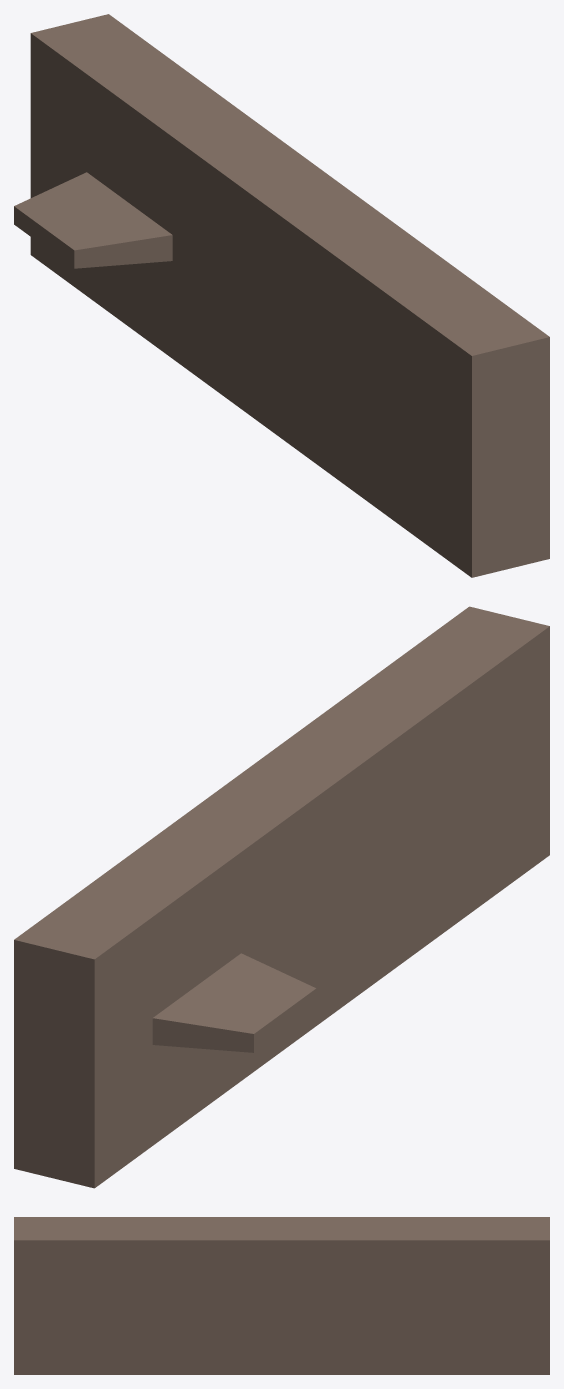
Rendered from Slider De Traba.fbx.
3 renders of one model, top to bottom at view 1: azimuth 30°, elevation 25°; view 2: azimuth 150°, elevation 25°; view 3: azimuth 270°, elevation 25°, orthographic. The views are drawn at different scales.
Parts seen in each view (by area): view 1: SliderDeTraba; view 2: SliderDeTraba; view 3: SliderDeTraba.
Part boxes in pixels (box(x1,y1,x2,y2)): SliderDeTraba: box(14, 14, 549, 577); SliderDeTraba: box(14, 606, 549, 1188); SliderDeTraba: box(14, 1217, 549, 1374).
Size of the model in its own units: 0.0328 by 0.0425 by 0.1531.
